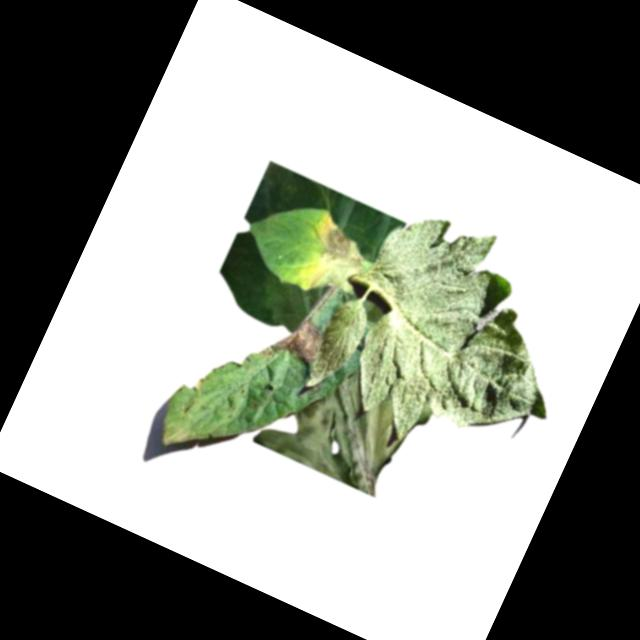Late_blight: (251, 344, 435, 505), (291, 210, 376, 305), (269, 307, 335, 370), (158, 420, 194, 452)
healthy: (300, 189, 606, 489)
